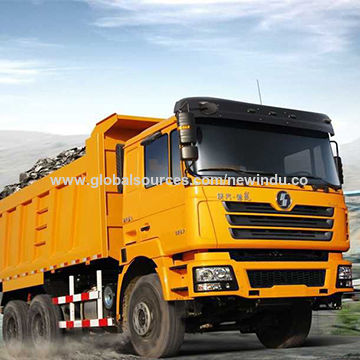truck: (1, 104, 350, 356)
